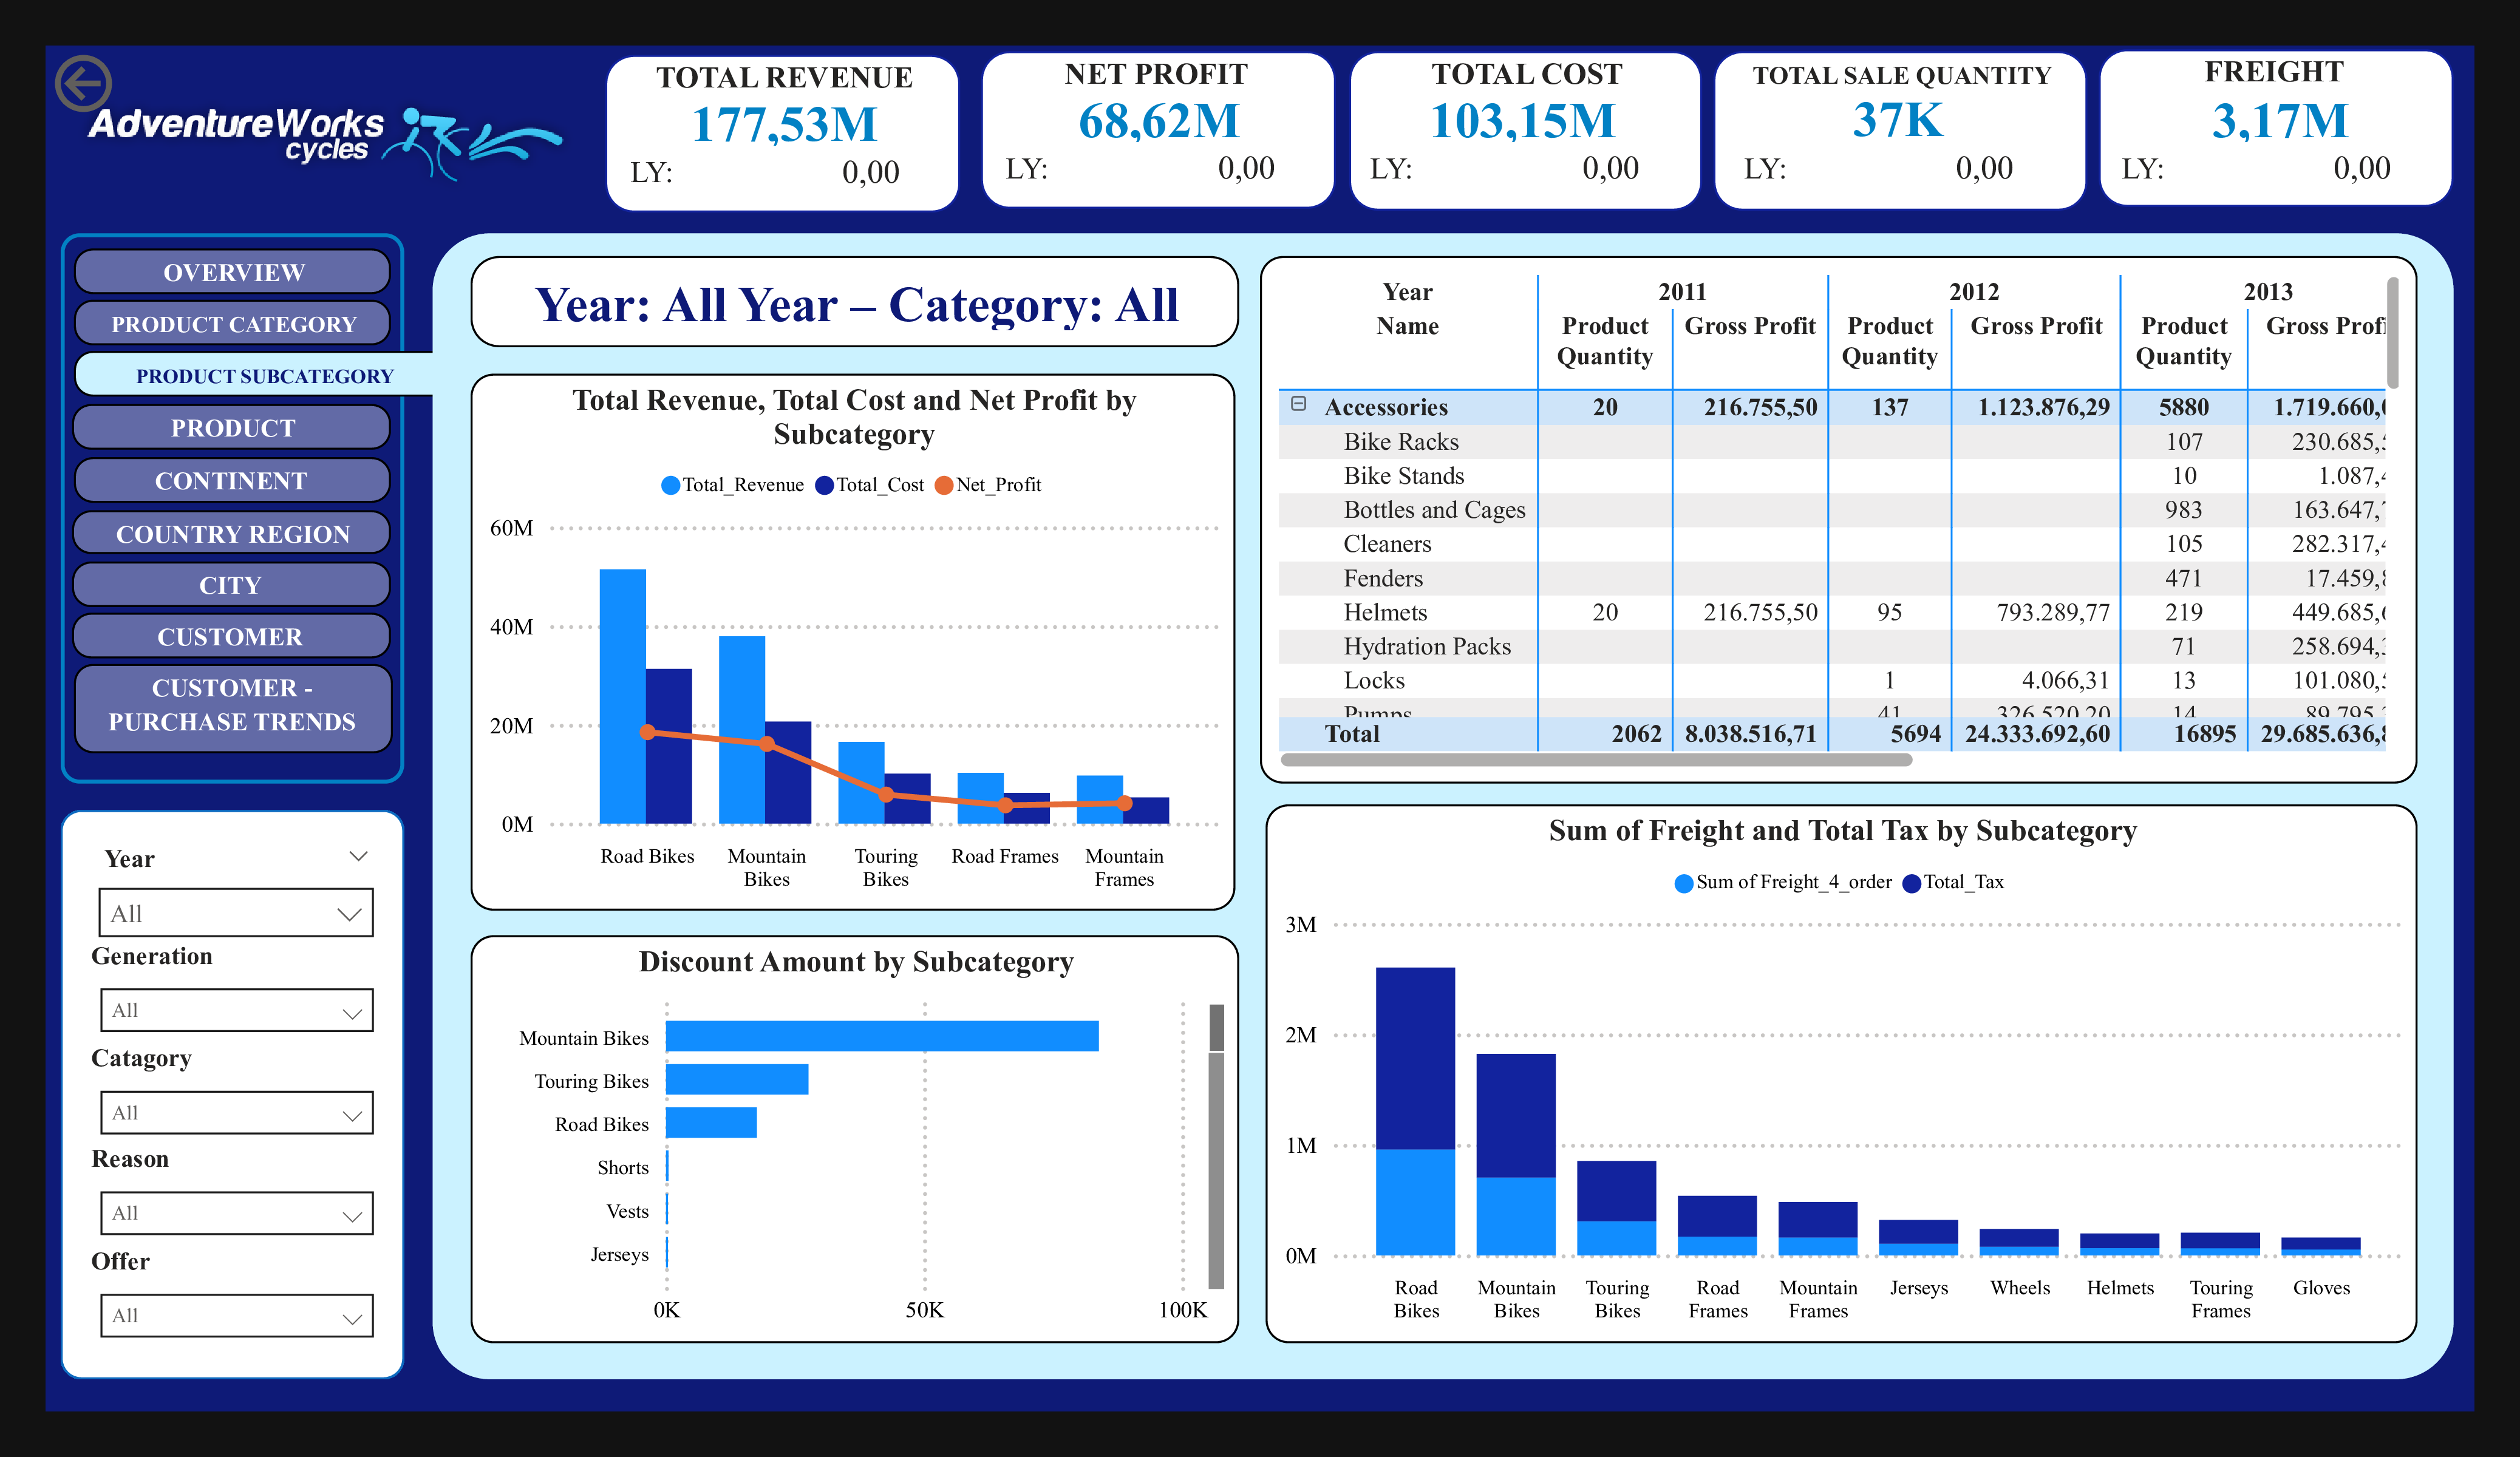

Layout of this report page (visuals, bound fields, positions):
{"tool":"powerbi","page":{"name":"Subcategory ","canvas":[1280,720],"ordinal":2},"visuals":[{"type":"textbox","box":[1081.7,1.9,186.7,83.3],"z":0,"group":"g15"},{"type":"textbox","box":[686.8,2.9,186.4,83.6],"z":0,"group":"g16"},{"type":"textbox","box":[879.5,2.9,197.1,83.6],"z":0,"group":"g17"},{"type":"textbox","box":[493.3,3.3,186.7,83.3],"z":0,"group":"g13"},{"type":"textbox","box":[295.4,4.6,186.7,83.3],"z":0,"group":"g12"},{"type":"group","id":"g1","title":"Group 3","box":[1088.8,50.5,94.3,29.3],"z":0,"group":"g6"},{"type":"textbox","box":[1088.8,50.5,83.6,29.3],"z":0,"group":"g1"},{"type":"group","id":"g2","title":"Group 3","box":[890.9,50.8,94.3,29.3],"z":0,"group":"g7"},{"type":"textbox","box":[890.9,50.8,83.6,29.3],"z":0,"group":"g2"},{"type":"group","id":"g3","title":"Group 3","box":[692.3,51.2,94.3,29.3],"z":0,"group":"g8"},{"type":"textbox","box":[692.3,51.2,83.6,29.3],"z":0,"group":"g3"},{"type":"group","id":"g4","title":"Group 3","box":[501.7,51.5,94.3,29.3],"z":0,"group":"g9"},{"type":"textbox","box":[501.7,51.5,83.6,29.3],"z":0,"group":"g4"},{"type":"group","id":"g5","title":"Group 3","box":[303.8,52.9,94.3,29.3],"z":0,"group":"g10"},{"type":"textbox","box":[303.8,52.9,83.6,29.3],"z":0,"group":"g5"},{"type":"shape","box":[7.5,99,181.5,290],"z":0},{"type":"image","box":[0,22,295,61],"z":1000},{"type":"card","fields":{"Values":["Fact_SalesOrderHeader.Total_Sale_Quantity"]},"box":[902.1,23.4,147.5,33.3],"z":1000,"group":"g17"},{"type":"card","fields":{"Values":["Sum(Fact_SalesOrderHeader.Freight_4_order)"]},"box":[1102.8,23.6,147.8,33.3],"z":1000,"group":"g15"},{"type":"card","fields":{"Values":["Fact_SalesOrderHeader.Total_Cost"]},"box":[703.5,23.7,147.5,33.3],"z":1000,"group":"g16"},{"type":"card","fields":{"Values":["Fact_SalesOrderHeader.Net_Profit"]},"box":[512.9,24.1,147.5,33.3],"z":1000,"group":"g18"},{"type":"card","fields":{"Values":["Fact_SalesOrderHeader.Total_Revenue"]},"box":[315,25.4,147.5,33.3],"z":1000,"group":"g12"},{"type":"card","fields":{"Values":["Fact_SalesOrderHeader.Prev_Freight"]},"box":[1115.6,50.5,67.5,24.3],"z":1000,"group":"g1"},{"type":"card","fields":{"Values":["Fact_SalesOrderHeader.%Change_Freight"]},"box":[1183,50.6,76.2,29.2],"z":1000,"group":"g6"},{"type":"card","fields":{"Values":["Fact_SalesOrderHeader.Prev_Total_Product_Sale_Quantity"]},"box":[917.7,50.8,67.5,24.3],"z":1000,"group":"g2"},{"type":"card","fields":{"Values":["Fact_SalesOrderHeader.%Change_Total_Product_Sale_Quantity"]},"box":[985.1,50.9,76.2,29.2],"z":1000,"group":"g7"},{"type":"card","fields":{"Values":["Fact_SalesOrderHeader.Prev_Total_Cost"]},"box":[719.1,51.2,67.5,24.3],"z":1000,"group":"g3"},{"type":"card","fields":{"Values":["Fact_SalesOrderHeader.%Change_Cost"]},"box":[786.5,51.3,76.2,29.2],"z":1000,"group":"g8"},{"type":"card","fields":{"Values":["Fact_SalesOrderHeader.Prev_Net_Profit"]},"box":[528.5,51.5,67.5,24.3],"z":1000,"group":"g4"},{"type":"card","fields":{"Values":["Fact_SalesOrderHeader.%Change_Net_Profit"]},"box":[595.9,51.6,76.2,29.2],"z":1000,"group":"g9"},{"type":"card","fields":{"Values":["Fact_SalesOrderHeader.Prev_Total_Revenue"]},"box":[330.6,52.9,67.5,24.3],"z":1000,"group":"g5"},{"type":"card","fields":{"Values":["Fact_SalesOrderHeader.%Change_Revenue"]},"box":[398,53,76.2,29.2],"z":1000,"group":"g10"},{"type":"textbox","box":[14.7,106.7,167.3,24],"z":2000},{"type":"textbox","box":[14.8,134.1,167,24.1],"z":3000},{"type":"textbox","box":[14.7,161.3,202,24],"z":4000},{"type":"textbox","box":[14.4,188.9,167.4,24.4],"z":5000},{"type":"textbox","box":[14.7,216.8,167.4,23.7],"z":6000},{"type":"textbox","box":[14.2,244.7,167.4,23.7],"z":7000},{"type":"group","id":"g6","title":"Group 4","box":[1088.8,50.5,170.6,29.4],"z":8000,"group":"g15"},{"type":"group","id":"g7","title":"Group 4","box":[890.9,50.8,170.5,29.3],"z":8000,"group":"g17"},{"type":"group","id":"g8","title":"Group 4","box":[692.3,51.2,170.5,29.3],"z":8000,"group":"g16"},{"type":"group","id":"g9","title":"Group 4","box":[501.7,51.5,170.5,29.3],"z":8000,"group":"g18"},{"type":"group","id":"g10","title":"Group 4","box":[303.8,52.9,170.5,29.3],"z":8000,"group":"g12"},{"type":"textbox","box":[14.2,272.1,167.4,23.7],"z":8000},{"type":"textbox","box":[14.2,299.5,167.4,23.7],"z":9000},{"type":"textbox","box":[15,326.1,167.8,47.2],"z":10000},{"type":"shape","box":[8.2,402.5,181.2,300],"z":11000},{"type":"slicer","fields":{"Values":["Datetime.OrderDate.Variation.Date Hierarchy.Year"]},"box":[18.2,416.2,165.2,56.5],"z":11000,"group":"g11"},{"type":"group","id":"g11","title":"Group 1","box":[18.2,416.2,165,272.5],"z":12000},{"type":"slicer","title":"Catagory ","fields":{"Values":["ProductCategory.Name"]},"box":[19,526.6,164.4,52.7],"z":12000,"group":"g11"},{"type":"shape","box":[203.8,98.8,1065,603.8],"z":13000},{"type":"slicer","title":"Reason ","fields":{"Values":["SalesReason.Name"]},"box":[19,579.3,164.4,54],"z":13000,"group":"g11"},{"type":"columnChart","title":"Sum of Freight and Total Tax by Subcategory ","fields":{"Category":["ProductSubcategory.Name"],"Y":["Sum(Fact_SalesOrderHeader.Freight_4_order)","Fact_SalesOrderHeader.Total_Tax"]},"box":[642.9,400,607.1,284.3],"z":14000},{"type":"slicer","title":"Offer ","fields":{"Values":["SpecialOffer.Type"]},"box":[19,633.3,164.4,55.2],"z":14000,"group":"g11"},{"type":"pivotTable","fields":{"Rows":["ProductCategory.Name","ProductSubcategory.Name"],"Columns":["Year.Year"],"Values":["Fact_SalesOrderHeader.Total_Product_Sale_Quantity","Fact_SalesOrderHeader.Gross_Profit"]},"box":[640,111.4,610,277.1],"z":15000},{"type":"slicer","title":"Generation","fields":{"Values":["Sales Customer.Generation"]},"box":[19,472.7,164.4,55.2],"z":15000,"group":"g11"},{"type":"lineClusteredColumnComboChart","title":"Total Revenue, Total Cost and Net Profit by Subcategory ","fields":{"Category":["ProductSubcategory.Name"],"Y":["Fact_SalesOrderHeader.Total_Revenue","Fact_SalesOrderHeader.Total_Cost"],"Y2":["Fact_SalesOrderHeader.Net_Profit"]},"box":[224.3,172.9,402.9,282.9],"z":16000},{"type":"clusteredBarChart","title":"Discount Amount by Subcategory ","fields":{"Category":["ProductSubcategory.Name"],"Y":["Fact_SalesOrderDetail.Discount_Amount"]},"box":[224.3,468.6,404.3,215.7],"z":17000},{"type":"card","fields":{"Values":["Datetime.Year_Category"]},"box":[224.3,111.4,404.3,47.1],"z":18000},{"type":"actionButton","box":[0,0,100,40],"z":19000},{"type":"group","id":"g12","title":"Group 2","box":[295.4,4.6,186.7,83.3],"z":20000},{"type":"group","id":"g13","title":"Group 2","box":[493.3,3.3,186.7,83.3],"z":21000},{"type":"group","id":"g14","title":"Group 2","box":[686.8,2.9,186.7,84.2],"z":22000},{"type":"group","id":"g15","title":"Group 8","box":[1081.7,1.9,186.7,83.3],"z":22001,"group":"g20"},{"type":"group","id":"g16","title":"Group 6","box":[686.8,2.9,186.4,83.6],"z":22001,"group":"g14"},{"type":"group","id":"g17","title":"Group 7","box":[879.5,2.9,197.1,83.6],"z":22001,"group":"g19"},{"type":"group","id":"g18","title":"Group 5","box":[501.7,24.1,170.5,56.7],"z":22001,"group":"g13"},{"type":"group","id":"g19","title":"Group 2","box":[879.5,2.9,197.1,83.6],"z":23000},{"type":"group","id":"g20","title":"Group 2","box":[1081.7,1.9,186.7,83.3],"z":24000}]}

Visuals, with their boxes on the page's 1280x720 design canvas (x1, y1, x2, y2). These are canvas units, not pixel positions in the 2520x1457 screenshot, which may show the page scaled, cropped or inside an application window:
textbox: x1=1082, y1=2, x2=1268, y2=85
textbox: x1=687, y1=3, x2=873, y2=86
textbox: x1=880, y1=3, x2=1077, y2=86
textbox: x1=493, y1=3, x2=680, y2=87
textbox: x1=295, y1=5, x2=482, y2=88
"Group 3" group: x1=1089, y1=50, x2=1183, y2=80
textbox: x1=1089, y1=50, x2=1172, y2=80
"Group 3" group: x1=891, y1=51, x2=985, y2=80
textbox: x1=891, y1=51, x2=974, y2=80
"Group 3" group: x1=692, y1=51, x2=787, y2=80
textbox: x1=692, y1=51, x2=776, y2=80
"Group 3" group: x1=502, y1=52, x2=596, y2=81
textbox: x1=502, y1=52, x2=585, y2=81
"Group 3" group: x1=304, y1=53, x2=398, y2=82
textbox: x1=304, y1=53, x2=387, y2=82
shape: x1=8, y1=99, x2=189, y2=389
image: x1=0, y1=22, x2=295, y2=83
card - Fact_SalesOrderHeader.Total_Sale_Quantity: x1=902, y1=23, x2=1050, y2=57
card - Sum(Fact_SalesOrderHeader.Freight_4_order): x1=1103, y1=24, x2=1251, y2=57
card - Fact_SalesOrderHeader.Total_Cost: x1=704, y1=24, x2=851, y2=57
card - Fact_SalesOrderHeader.Net_Profit: x1=513, y1=24, x2=660, y2=57
card - Fact_SalesOrderHeader.Total_Revenue: x1=315, y1=25, x2=462, y2=59
card - Fact_SalesOrderHeader.Prev_Freight: x1=1116, y1=50, x2=1183, y2=75
card - Fact_SalesOrderHeader.%Change_Freight: x1=1183, y1=51, x2=1259, y2=80
card - Fact_SalesOrderHeader.Prev_Total_Product_Sale_Quantity: x1=918, y1=51, x2=985, y2=75
card - Fact_SalesOrderHeader.%Change_Total_Product_Sale_Quantity: x1=985, y1=51, x2=1061, y2=80
card - Fact_SalesOrderHeader.Prev_Total_Cost: x1=719, y1=51, x2=787, y2=76
card - Fact_SalesOrderHeader.%Change_Cost: x1=786, y1=51, x2=863, y2=80
card - Fact_SalesOrderHeader.Prev_Net_Profit: x1=528, y1=52, x2=596, y2=76
card - Fact_SalesOrderHeader.%Change_Net_Profit: x1=596, y1=52, x2=672, y2=81
card - Fact_SalesOrderHeader.Prev_Total_Revenue: x1=331, y1=53, x2=398, y2=77
card - Fact_SalesOrderHeader.%Change_Revenue: x1=398, y1=53, x2=474, y2=82
textbox: x1=15, y1=107, x2=182, y2=131
textbox: x1=15, y1=134, x2=182, y2=158
textbox: x1=15, y1=161, x2=217, y2=185
textbox: x1=14, y1=189, x2=182, y2=213
textbox: x1=15, y1=217, x2=182, y2=240
textbox: x1=14, y1=245, x2=182, y2=268
"Group 4" group: x1=1089, y1=50, x2=1259, y2=80
"Group 4" group: x1=891, y1=51, x2=1061, y2=80
"Group 4" group: x1=692, y1=51, x2=863, y2=80
"Group 4" group: x1=502, y1=52, x2=672, y2=81
"Group 4" group: x1=304, y1=53, x2=474, y2=82
textbox: x1=14, y1=272, x2=182, y2=296
textbox: x1=14, y1=300, x2=182, y2=323
textbox: x1=15, y1=326, x2=183, y2=373
shape: x1=8, y1=402, x2=189, y2=702
slicer - Datetime.OrderDate.Variation.Date Hierarchy.Year: x1=18, y1=416, x2=183, y2=473
"Group 1" group: x1=18, y1=416, x2=183, y2=689
"Catagory " slicer: x1=19, y1=527, x2=183, y2=579
shape: x1=204, y1=99, x2=1269, y2=703
"Reason " slicer: x1=19, y1=579, x2=183, y2=633
"Sum of Freight and Total Tax by Subcategory " columnChart: x1=643, y1=400, x2=1250, y2=684
"Offer " slicer: x1=19, y1=633, x2=183, y2=688
pivotTable - ProductCategory.Name x ProductSubcategory.Name: x1=640, y1=111, x2=1250, y2=388
"Generation" slicer: x1=19, y1=473, x2=183, y2=528
"Total Revenue, Total Cost and Net Profit by Subcategory " lineClusteredColumnComboChart: x1=224, y1=173, x2=627, y2=456
"Discount Amount by Subcategory " clusteredBarChart: x1=224, y1=469, x2=629, y2=684
card - Datetime.Year_Category: x1=224, y1=111, x2=629, y2=158
actionButton: x1=0, y1=0, x2=100, y2=40
"Group 2" group: x1=295, y1=5, x2=482, y2=88
"Group 2" group: x1=493, y1=3, x2=680, y2=87
"Group 2" group: x1=687, y1=3, x2=874, y2=87
"Group 8" group: x1=1082, y1=2, x2=1268, y2=85
"Group 6" group: x1=687, y1=3, x2=873, y2=86
"Group 7" group: x1=880, y1=3, x2=1077, y2=86
"Group 5" group: x1=502, y1=24, x2=672, y2=81
"Group 2" group: x1=880, y1=3, x2=1077, y2=86
"Group 2" group: x1=1082, y1=2, x2=1268, y2=85
